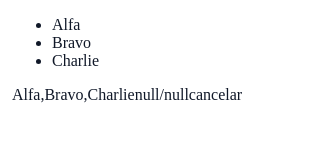
Scenario: useSortable — pointer › ignores a move that lands outside every row
Press the mouse on the option "Alfa" at (66, 24), box x1=52 y1=16 x2=80 y2=33
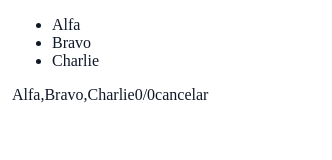
Check: the text with test id "estado" reads "0/0", box x1=135 y1=86 x2=155 y2=103
